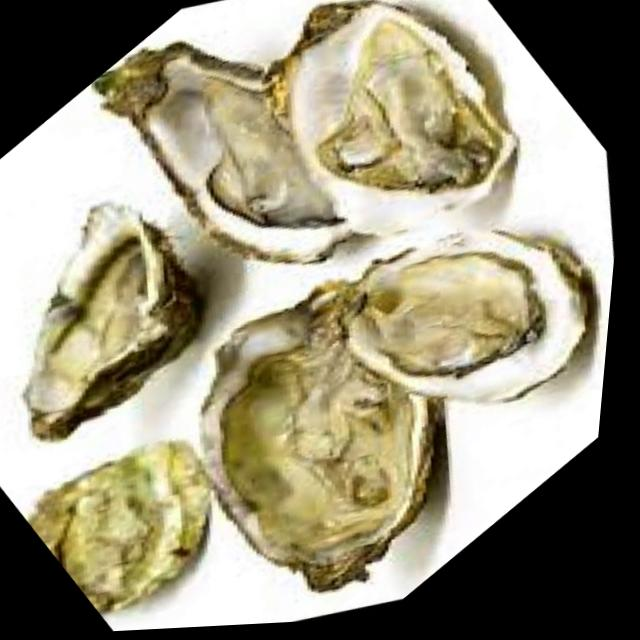Oyster-Indeterminate: (28, 442, 210, 612)
Oyster-Open: (202, 282, 442, 591), (268, 0, 514, 233), (94, 42, 351, 262), (23, 202, 201, 439), (345, 231, 588, 401)
